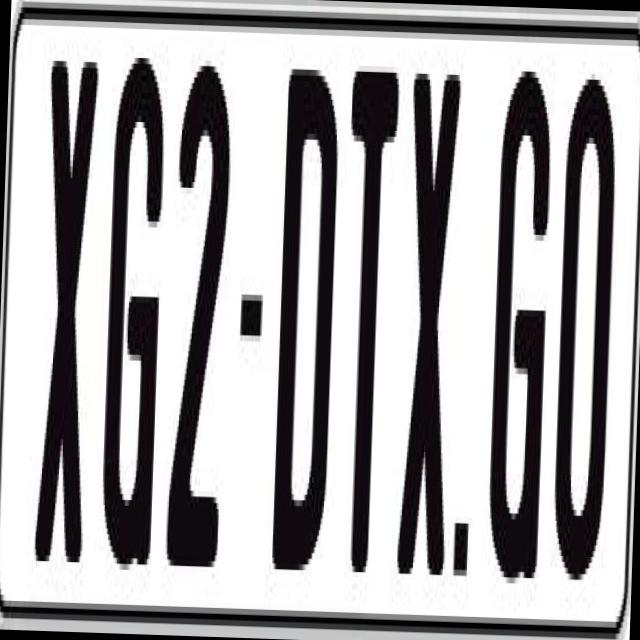0: (548, 78, 622, 616)
2: (160, 47, 234, 584)
D: (270, 56, 342, 576)
G: (482, 64, 554, 607), (100, 39, 174, 559)
T: (334, 70, 400, 596)
X: (31, 42, 100, 580), (397, 73, 461, 575)
